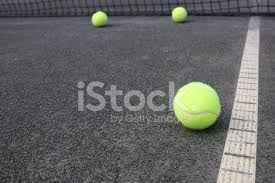tennis_ball: (171, 80, 222, 132), (91, 10, 108, 29), (171, 6, 187, 23)
